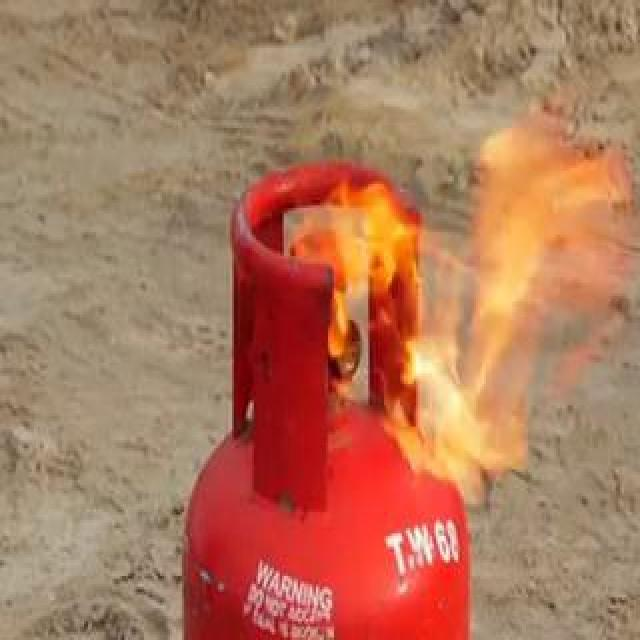Fire: (240, 69, 518, 472)
